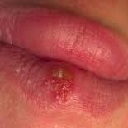Cold Sore: (43, 65, 74, 103)
